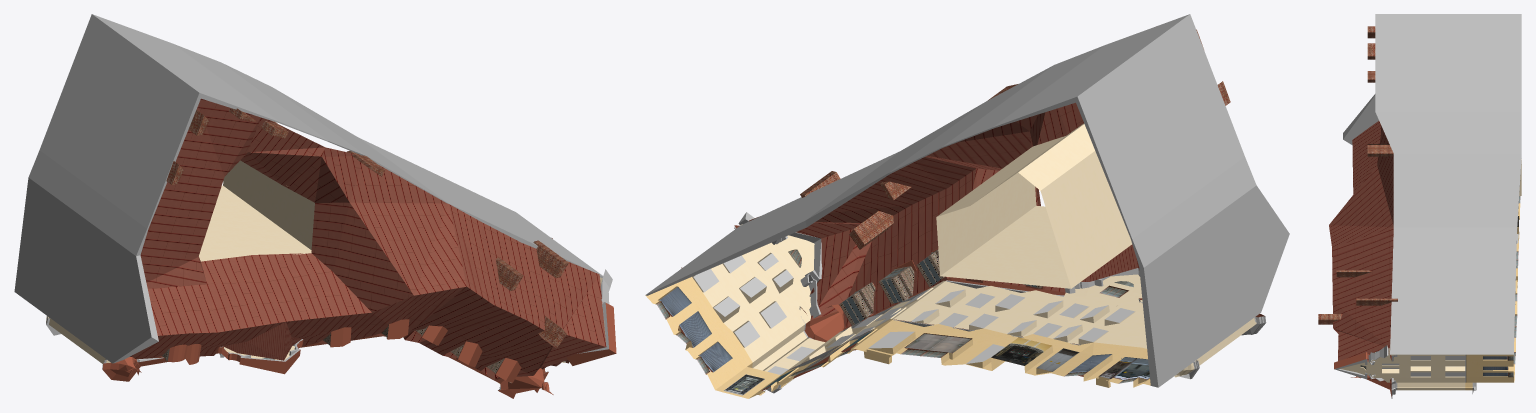
Rendered from Pikk_27-origo.obj.
3 views of the same model, side by side, from view 1: azimuth 30°, elevation 25°; view 2: azimuth 150°, elevation 25°; view 3: azimuth 270°, elevation 25° (orthographic). The views are drawn at different scales.
Parts seen in each view (by area): view 1: p27; view 2: p27; view 3: p27.
Part boxes in pixels (left/top/right/bottom): p27: left=14, top=14, right=616, bottom=398; p27: left=645, top=14, right=1289, bottom=398; p27: left=1318, top=14, right=1521, bottom=398.
Size of the model in its own units: 43.06 by 32 by 21.97.
